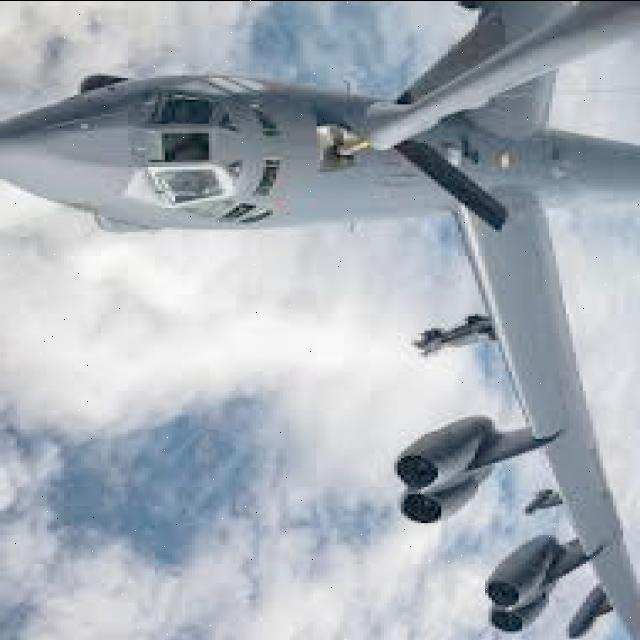B52: (10, 12, 640, 640)
